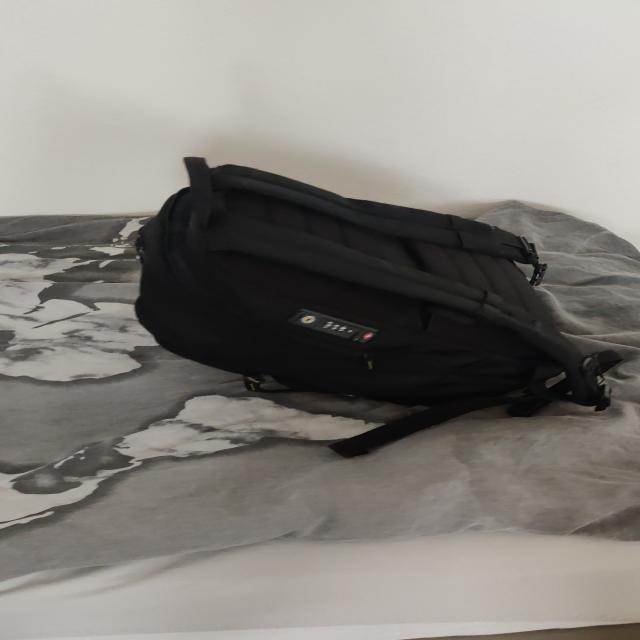backpack: (113, 150, 614, 426)
